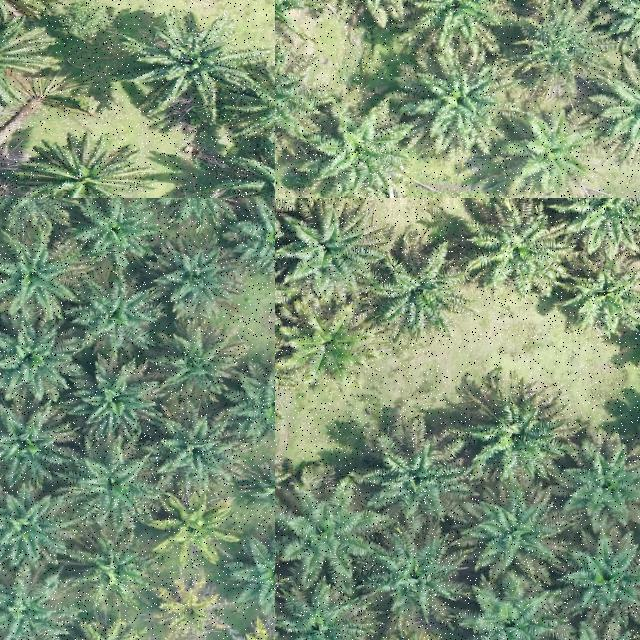Ganoderma: (163, 588, 220, 635), (167, 507, 216, 552), (77, 621, 139, 640)
